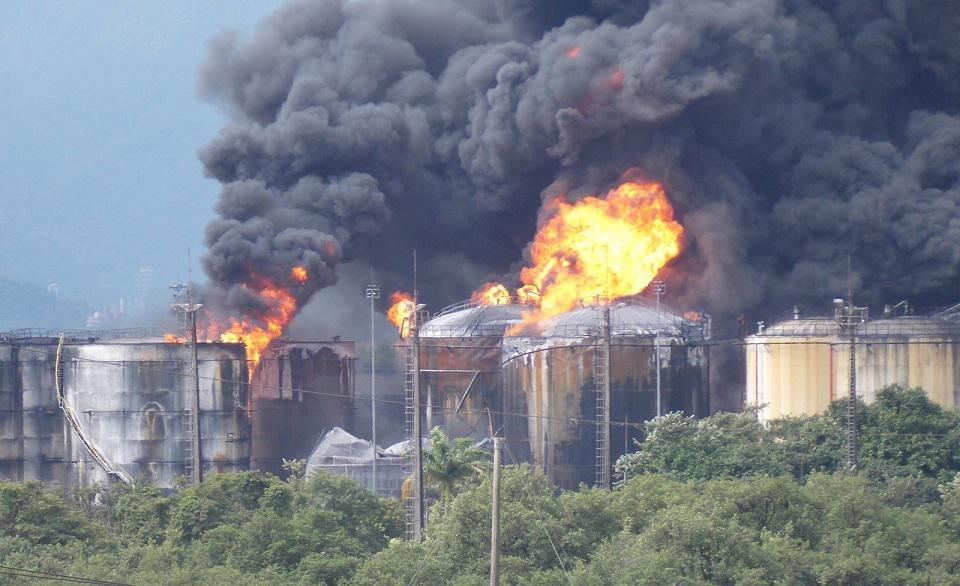Fire: (473, 176, 690, 326), (209, 264, 309, 382), (386, 292, 424, 338), (165, 331, 187, 349)
